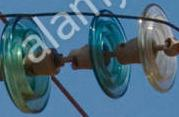gap: (1, 7, 131, 115)
